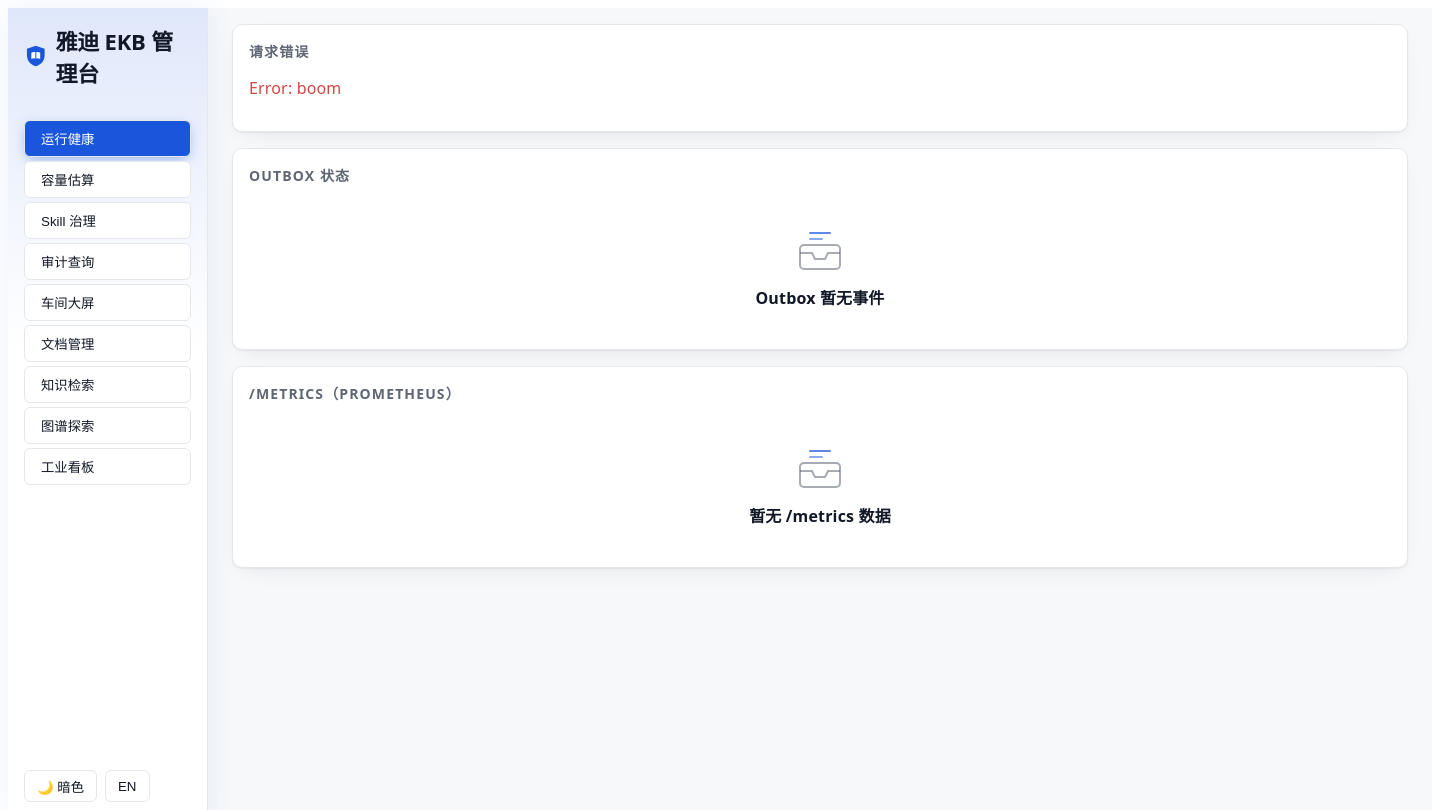
Test case: App capacity tab (B-4/B-5) › shows an error toast when the estimate request fails
This screenshot has width=1440, height=810.
Click the button "容量估算" at (108, 180), box [24,161,191,198]
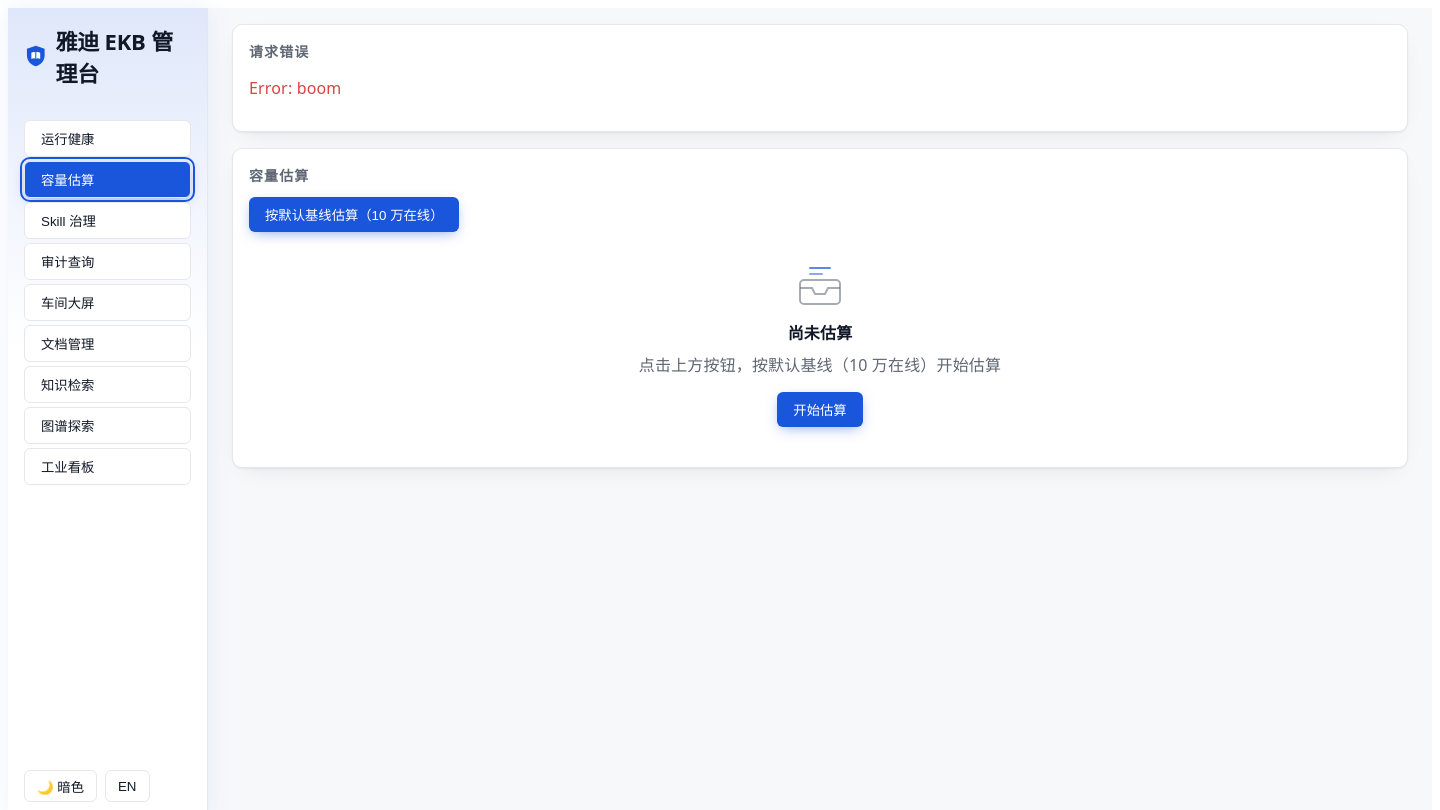
Click the button "按默认基线估算（10 万在线）" at (354, 214), box [249,197,460,232]
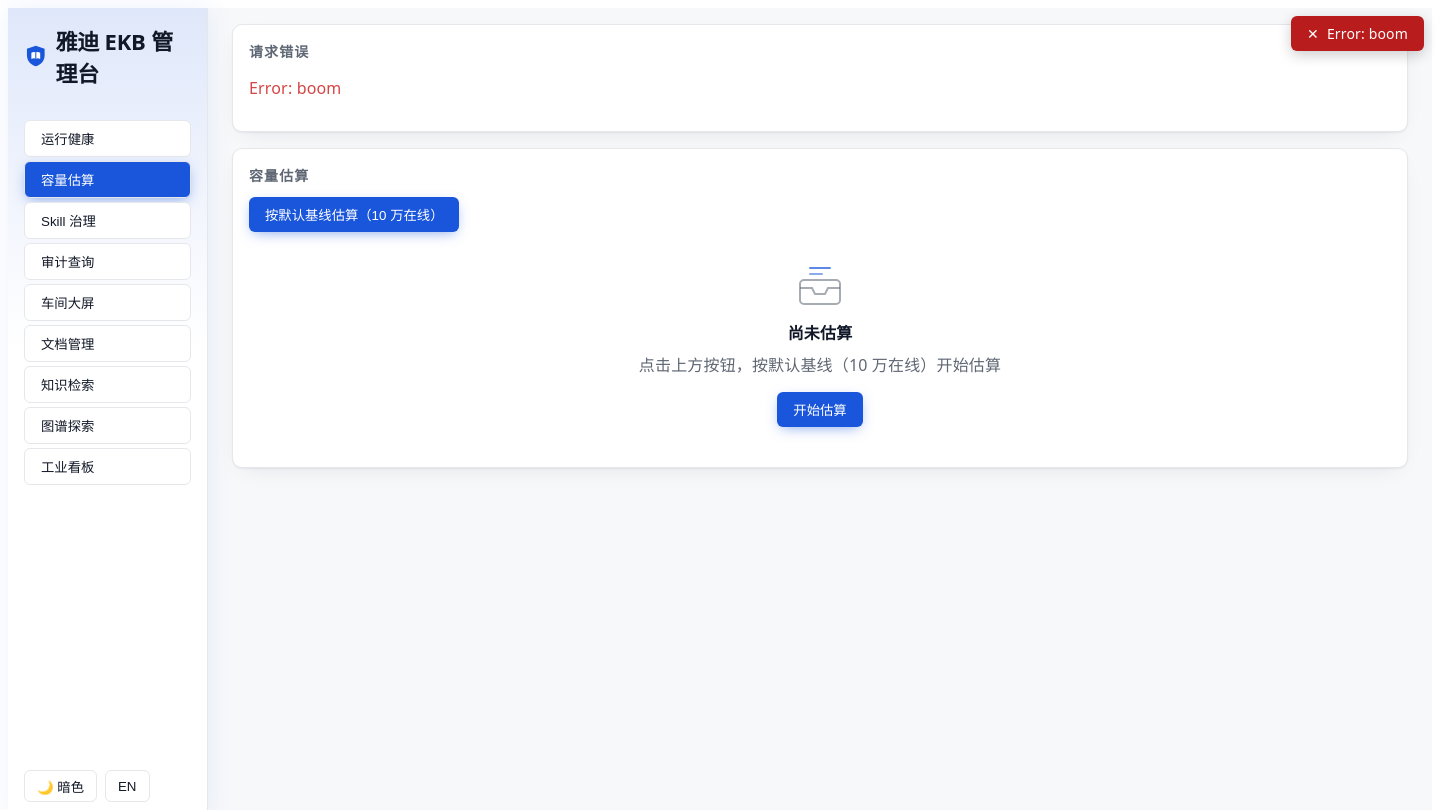
Result: the message "✕ Error: boom" is shown at [1291,16,1424,51]
